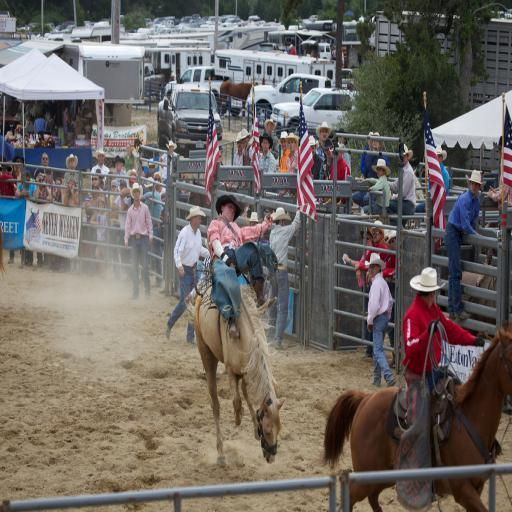horse: (315, 323, 511, 511), (179, 279, 286, 465)
